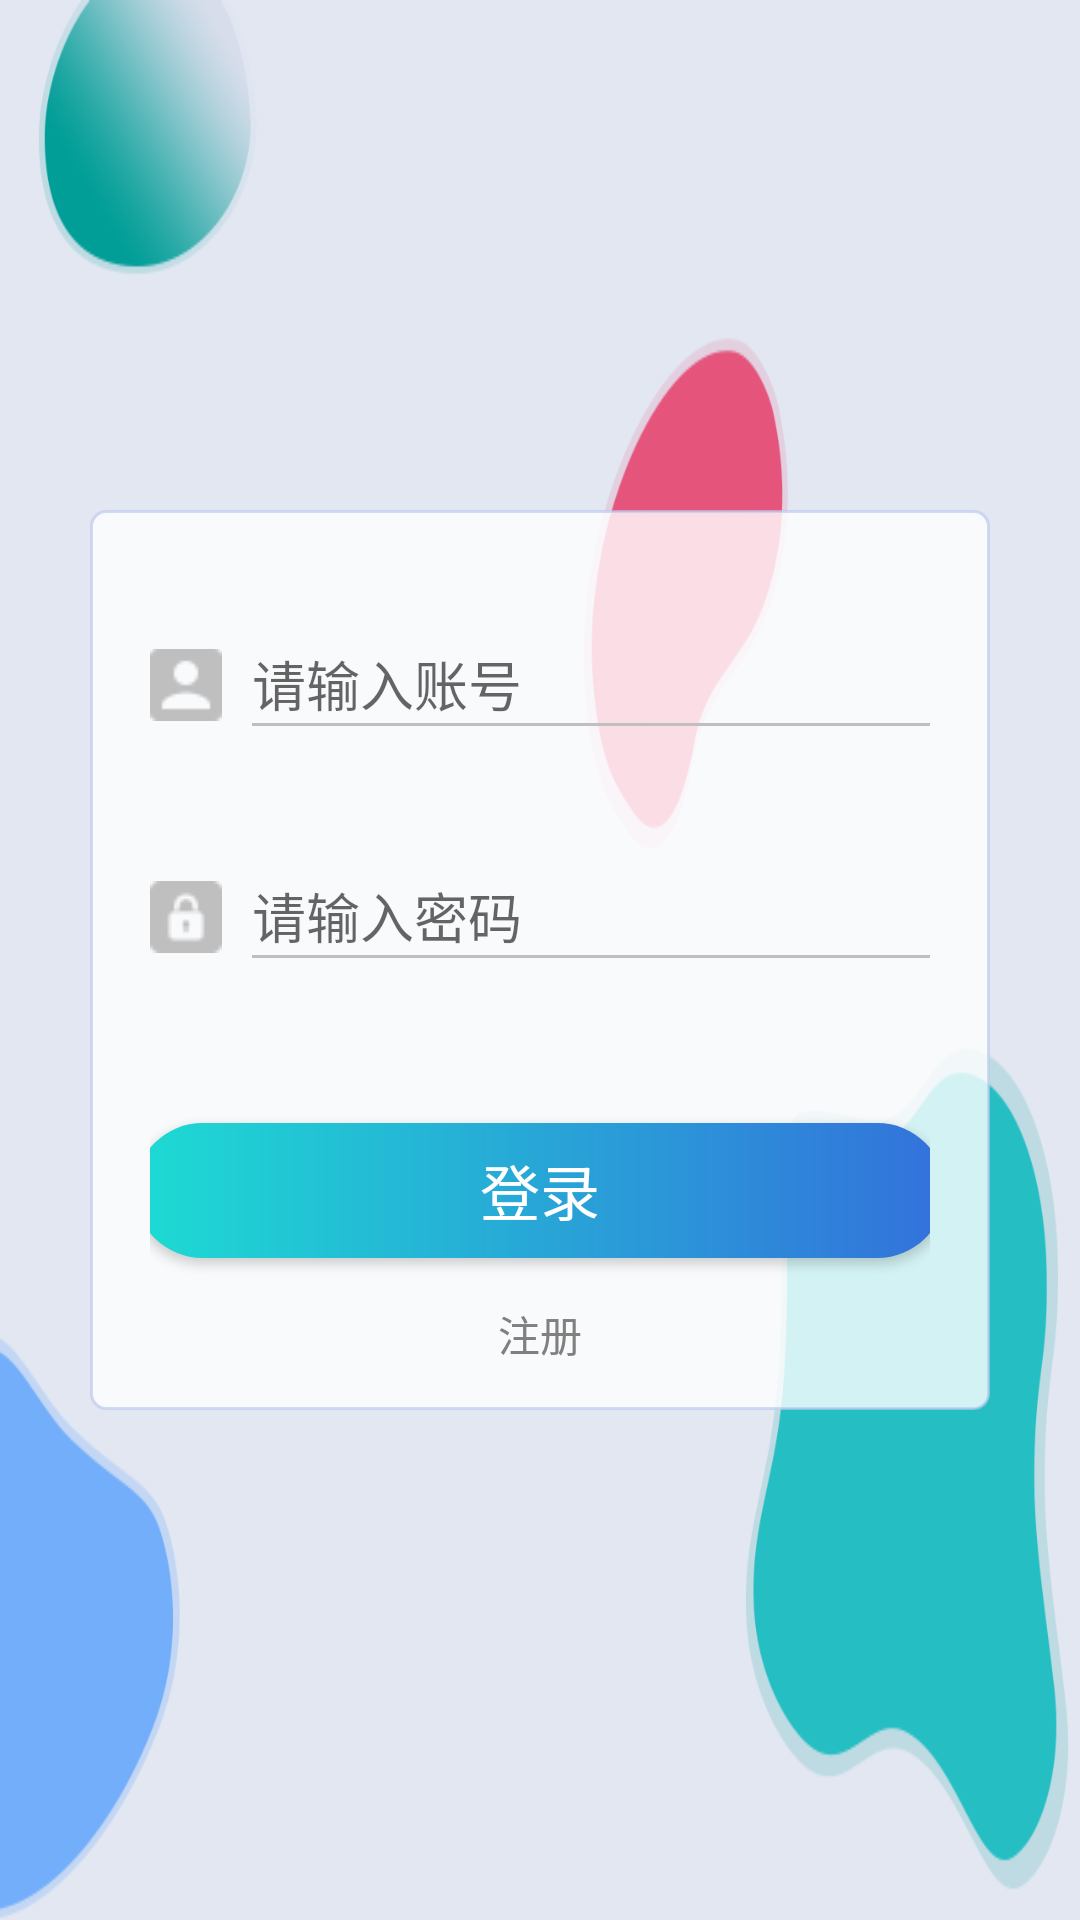

Named icons in this screenshot (1080px×1920px) and their centers, (x=x, y=y):
password: (x=186, y=917)
user number: (x=186, y=685)
